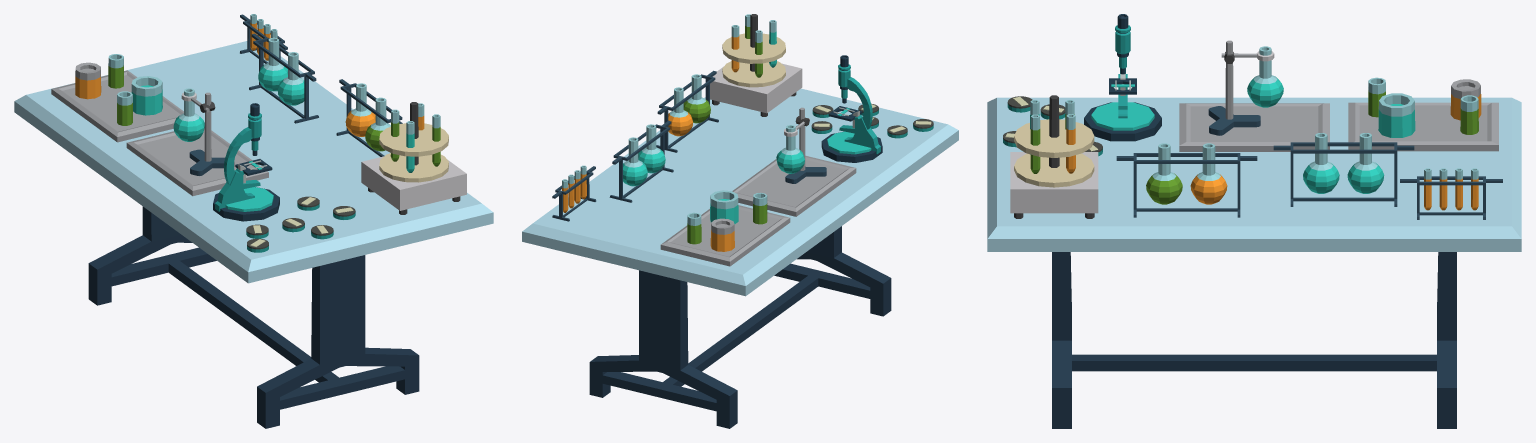
File: Table1.fbx
3 views of the same model, side by side, from view 1: azimuth 30°, elevation 25°; view 2: azimuth 150°, elevation 25°; view 3: azimuth 270°, elevation 25° (orthographic). The views are drawn at different scales.
Parts seen in each view (by area): view 1: Cube.017_193, Cube.018_194, Cube.158_360, Cube.167_364, Cube.166_387, Circle.159_376, Circle.090_366, Circle.158_375, Cube.164_362, Circle.165_356, Circle.139_349, Circle.166_357 (+13 smaller); view 2: Cube.017_193, Cube.018_194, Cube.158_360, Cube.167_364, Cube.166_387, Circle.159_376, Circle.090_366, Circle.158_375, Cube.164_362, Cube.163_361, Circle.165_356, Circle.139_349 (+13 smaller); view 3: Cube.017_193, Cube.018_194, Cube.158_360, Cube.167_364, Cube.166_387, Circle.090_366, Cube.164_362, Circle.159_376, Circle.158_375, Cube.163_361, Circle.165_356, Circle.153_352 (+14 smaller).
Part boxes in pixels (bbox=[...]): Cube.017_193: bbox=[14, 41, 493, 283]; Cube.018_194: bbox=[88, 206, 419, 428]; Cube.158_360: bbox=[126, 128, 268, 196]; Cube.167_364: bbox=[51, 70, 183, 142]; Cube.166_387: bbox=[361, 156, 466, 210]; Circle.159_376: bbox=[379, 123, 448, 156]; Circle.090_366: bbox=[213, 187, 279, 221]; Circle.158_375: bbox=[379, 153, 448, 182]; Cube.164_362: bbox=[249, 33, 318, 123]; Circle.165_356: bbox=[131, 76, 162, 115]; Circle.139_349: bbox=[173, 88, 204, 141]; Circle.166_357: bbox=[75, 62, 101, 99]; Cube.017_193: bbox=[522, 88, 958, 296]; Cube.018_194: bbox=[589, 226, 891, 428]; Cube.158_360: bbox=[732, 155, 856, 216]; Cube.167_364: bbox=[660, 205, 790, 266]; Cube.166_387: bbox=[710, 63, 802, 113]; Circle.159_376: bbox=[722, 33, 785, 63]; Circle.090_366: bbox=[821, 131, 882, 162]; Circle.158_375: bbox=[722, 61, 785, 87]; Cube.164_362: bbox=[609, 120, 673, 202]; Cube.163_361: bbox=[656, 70, 718, 152]; Circle.165_356: bbox=[710, 190, 738, 223]; Circle.139_349: bbox=[776, 125, 804, 173]; Cube.017_193: bbox=[987, 97, 1521, 251]; Cube.018_194: bbox=[1052, 252, 1456, 428]; Cube.158_360: bbox=[1179, 103, 1329, 151]; Cube.167_364: bbox=[1348, 102, 1498, 151]; Cube.166_387: bbox=[1010, 152, 1098, 213]; Circle.090_366: bbox=[1084, 102, 1161, 141]; Cube.164_362: bbox=[1273, 142, 1414, 206]; Circle.159_376: bbox=[1014, 119, 1094, 157]; Circle.158_375: bbox=[1014, 153, 1094, 187]; Cube.163_361: bbox=[1116, 153, 1257, 217]; Circle.165_356: bbox=[1378, 93, 1415, 137]; Circle.153_352: bbox=[1190, 143, 1227, 204].
Size of the model in its own units: 54.59 by 63.04 by 90.09.
